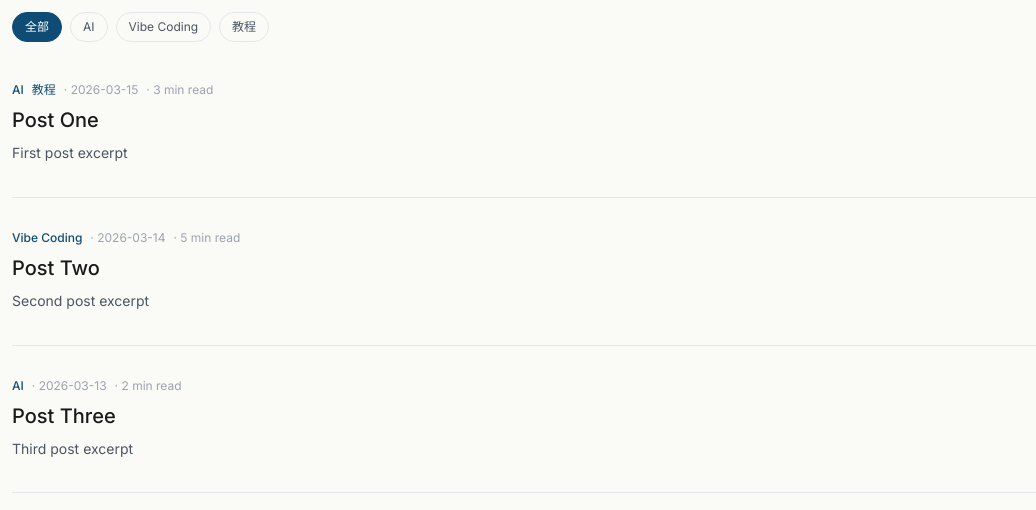
it: BlogList › shows all posts when '全部' is clicked
The width and height of the screenshot is (1036, 510).
Click the button "AI" at [89, 27], box [70,12,108,42]
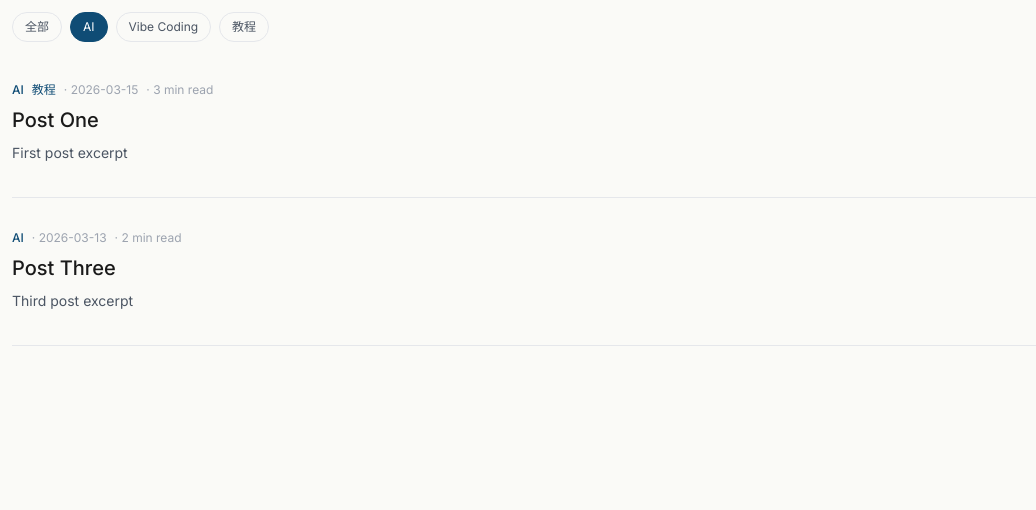
Expected: the link "Post Two" is gone
Click the button "全部" at [37, 27], box [12,12,62,42]
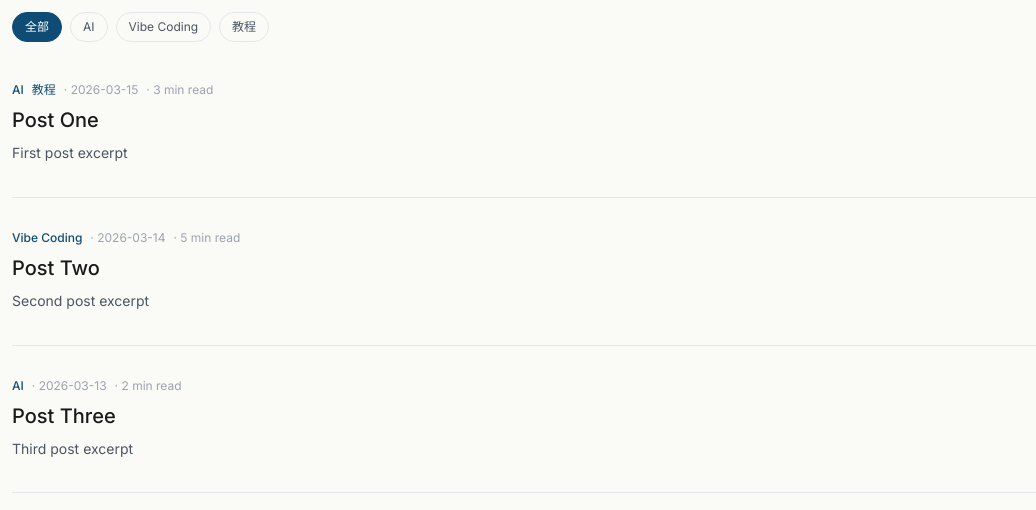
Expected: the heading "Post One" is shown, [12,108,99,132]
Expected: the heading "Post Two" is shown, [12,256,100,280]
